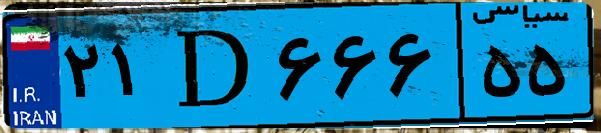1: (110, 28, 158, 98)
2: (57, 26, 110, 100)
5: (475, 38, 525, 113), (525, 38, 570, 115)
6: (270, 28, 330, 110), (385, 28, 445, 110), (330, 28, 385, 110)
D: (158, 12, 270, 120)
